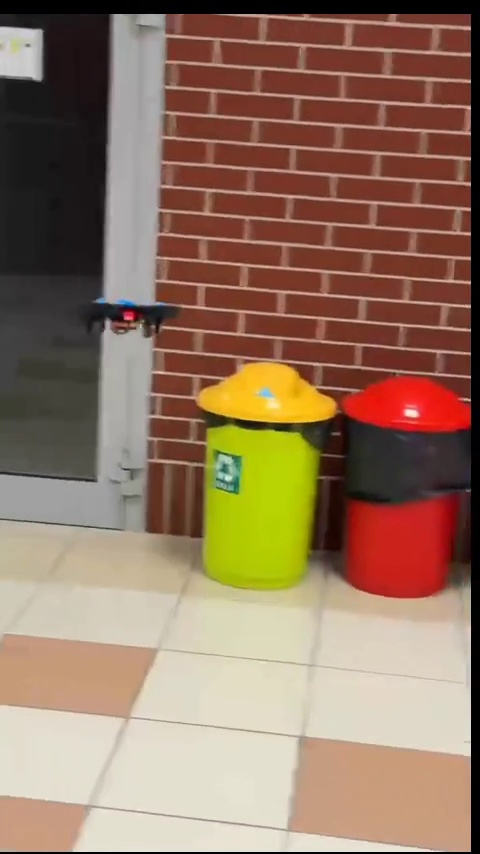drone: (74, 290, 189, 338)
